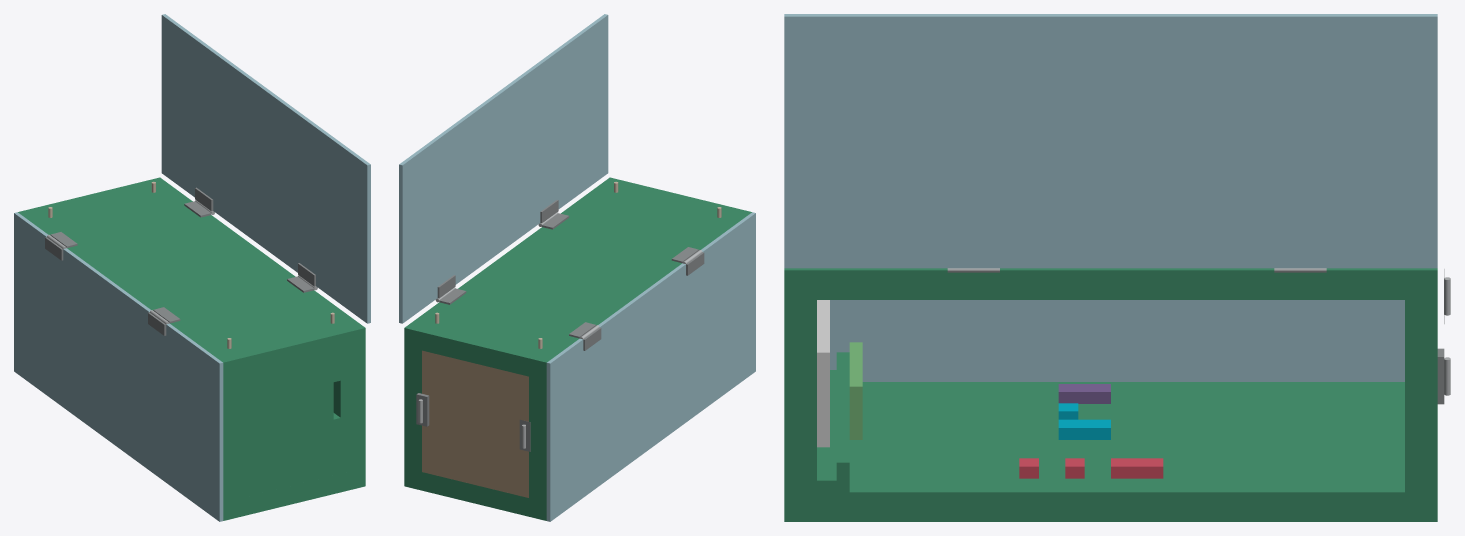
File: CropCare Unit v3.glb
3 views of the same model, side by side, from view 1: azimuth 30°, elevation 25°; view 2: azimuth 150°, elevation 25°; view 3: azimuth 270°, elevation 25° (orthographic). The views are drawn at different scales.
Visible parts, largest first — view 1: Mesh_Mesh_head_geo.001_lambert2SG.001; view 2: Mesh_Mesh_head_geo.001_lambert2SG.001; view 3: Mesh_Mesh_head_geo.001_lambert2SG.001.
Part boxes in pixels (x1=…): Mesh_Mesh_head_geo.001_lambert2SG.001: x1=14, y1=14, x2=370, y2=521; Mesh_Mesh_head_geo.001_lambert2SG.001: x1=399, y1=14, x2=755, y2=521; Mesh_Mesh_head_geo.001_lambert2SG.001: x1=784, y1=14, x2=1450, y2=521.
Size of the model in its own units: 42.98 by 86 by 102.
